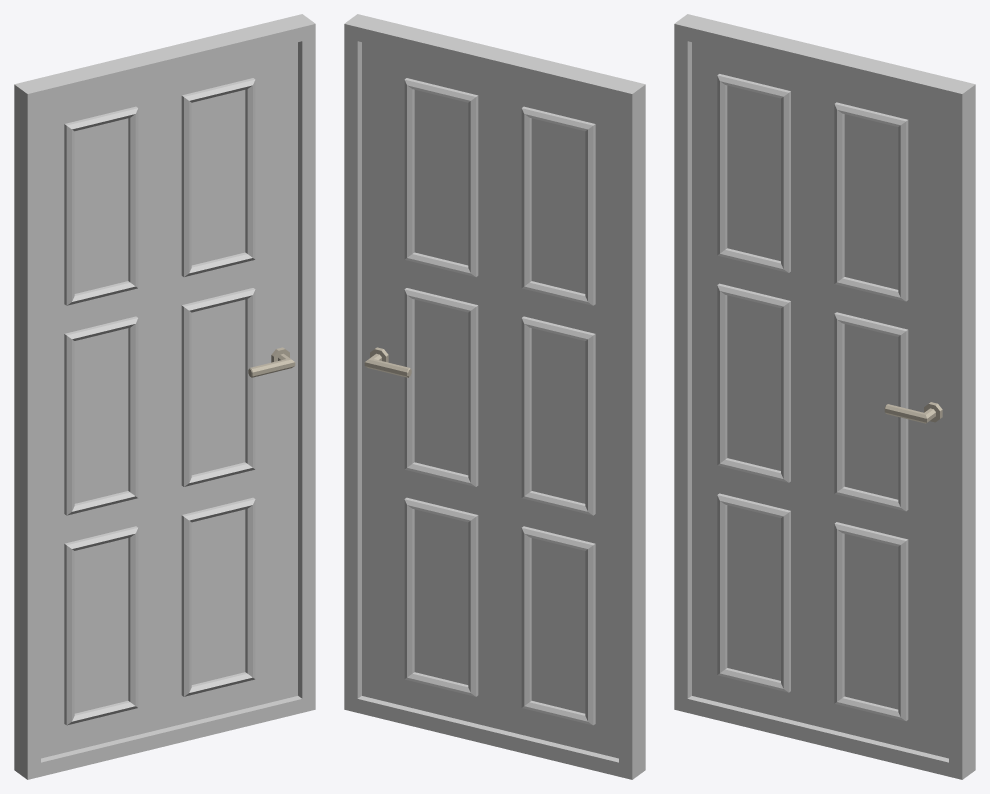
File: Mesh_Door_B01.fbx
The picture shows the model from 3 angles, left to right: view 1: azimuth 30°, elevation 25°; view 2: azimuth 150°, elevation 25°; view 3: azimuth 330°, elevation 25°; orthographic projection.
Parts seen in each view (by area): view 1: Mesh_Door_B01; view 2: Mesh_Door_B01; view 3: Mesh_Door_B01.
Boxes of the visible parts, box(x1,y1,x2,y2) form: Mesh_Door_B01: box(14, 14, 315, 779); Mesh_Door_B01: box(344, 14, 645, 779); Mesh_Door_B01: box(674, 14, 975, 779).
Size of the model in its own units: 0.9 by 2.05 by 0.1524.
